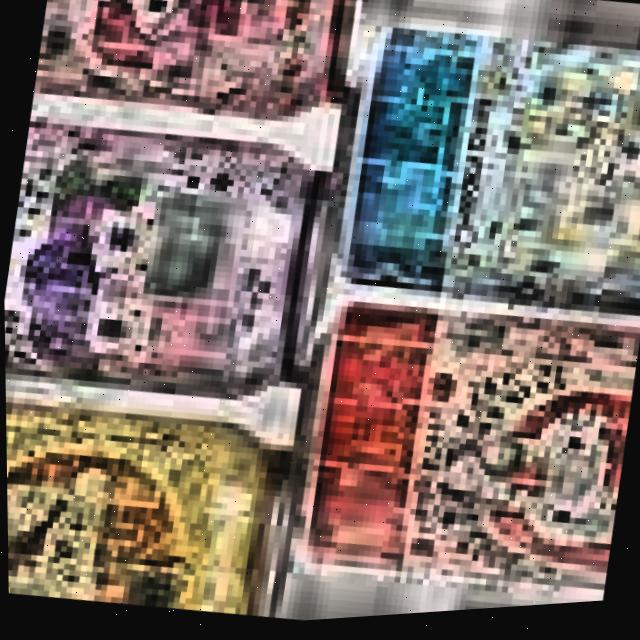metal: (275, 280, 640, 626), (1, 88, 351, 444), (320, 0, 640, 347), (4, 365, 332, 639), (30, 0, 384, 157)
